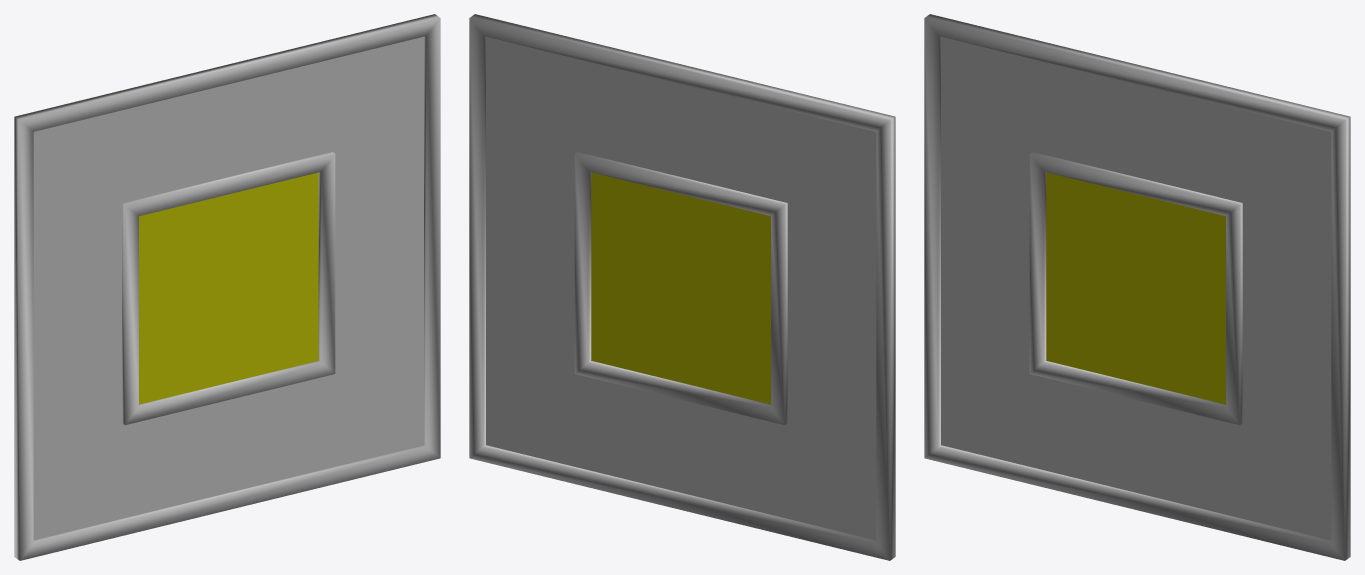
File: abstract-1.fbx
3 views of the same model, side by side, from view 1: azimuth 30°, elevation 25°; view 2: azimuth 150°, elevation 25°; view 3: azimuth 330°, elevation 25° (orthographic).
Visible parts, largest first — view 1: polySurface93, polySurface91, polySurface94, polySurface92; view 2: polySurface93, polySurface91, polySurface94, polySurface92; view 3: polySurface93, polySurface91, polySurface94, polySurface92.
Part boxes in pixels (<box>): polySurface93: <box>33,36,423,540</box>; polySurface91: <box>139,172,318,404</box>; polySurface94: <box>14,14,440,560</box>; polySurface92: <box>122,152,335,425</box>; polySurface93: <box>486,36,876,540</box>; polySurface91: <box>591,172,770,404</box>; polySurface94: <box>469,14,895,560</box>; polySurface92: <box>574,152,787,425</box>; polySurface93: <box>941,36,1331,540</box>; polySurface91: <box>1046,172,1225,404</box>; polySurface94: <box>924,14,1350,560</box>; polySurface92: <box>1029,152,1242,425</box>.
Size of the model in its own units: 5.37 by 5.37 by 0.125.
